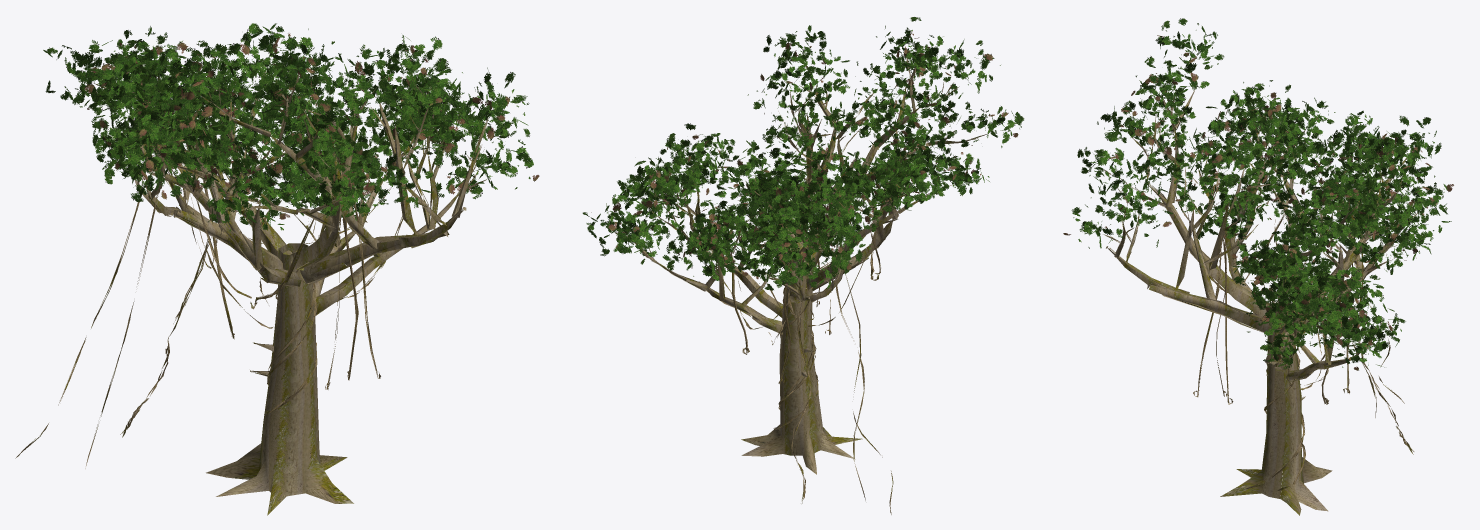
The model's file is arbre_v3.glb.
3 views of the same model, side by side, from view 1: azimuth 30°, elevation 25°; view 2: azimuth 150°, elevation 25°; view 3: azimuth 270°, elevation 25° (orthographic). The views are drawn at different scales.
Visible parts, largest first — view 1: ArbreGeant_Feuillage, ArbreGeant_Bois; view 2: ArbreGeant_Feuillage, ArbreGeant_Bois; view 3: ArbreGeant_Feuillage, ArbreGeant_Bois.
Part boxes in pixels (box(x1,y1,x2,y2)): ArbreGeant_Feuillage: box(43, 23, 539, 232); ArbreGeant_Bois: box(15, 65, 487, 515); ArbreGeant_Feuillage: box(582, 17, 1024, 290); ArbreGeant_Bois: box(634, 57, 986, 514); ArbreGeant_Feuillage: box(1063, 18, 1453, 370); ArbreGeant_Bois: box(1103, 72, 1418, 515).
Bounding box in the file's own units: 33.2 × 36.58 × 32.58.
3 materials, 3 textured.
